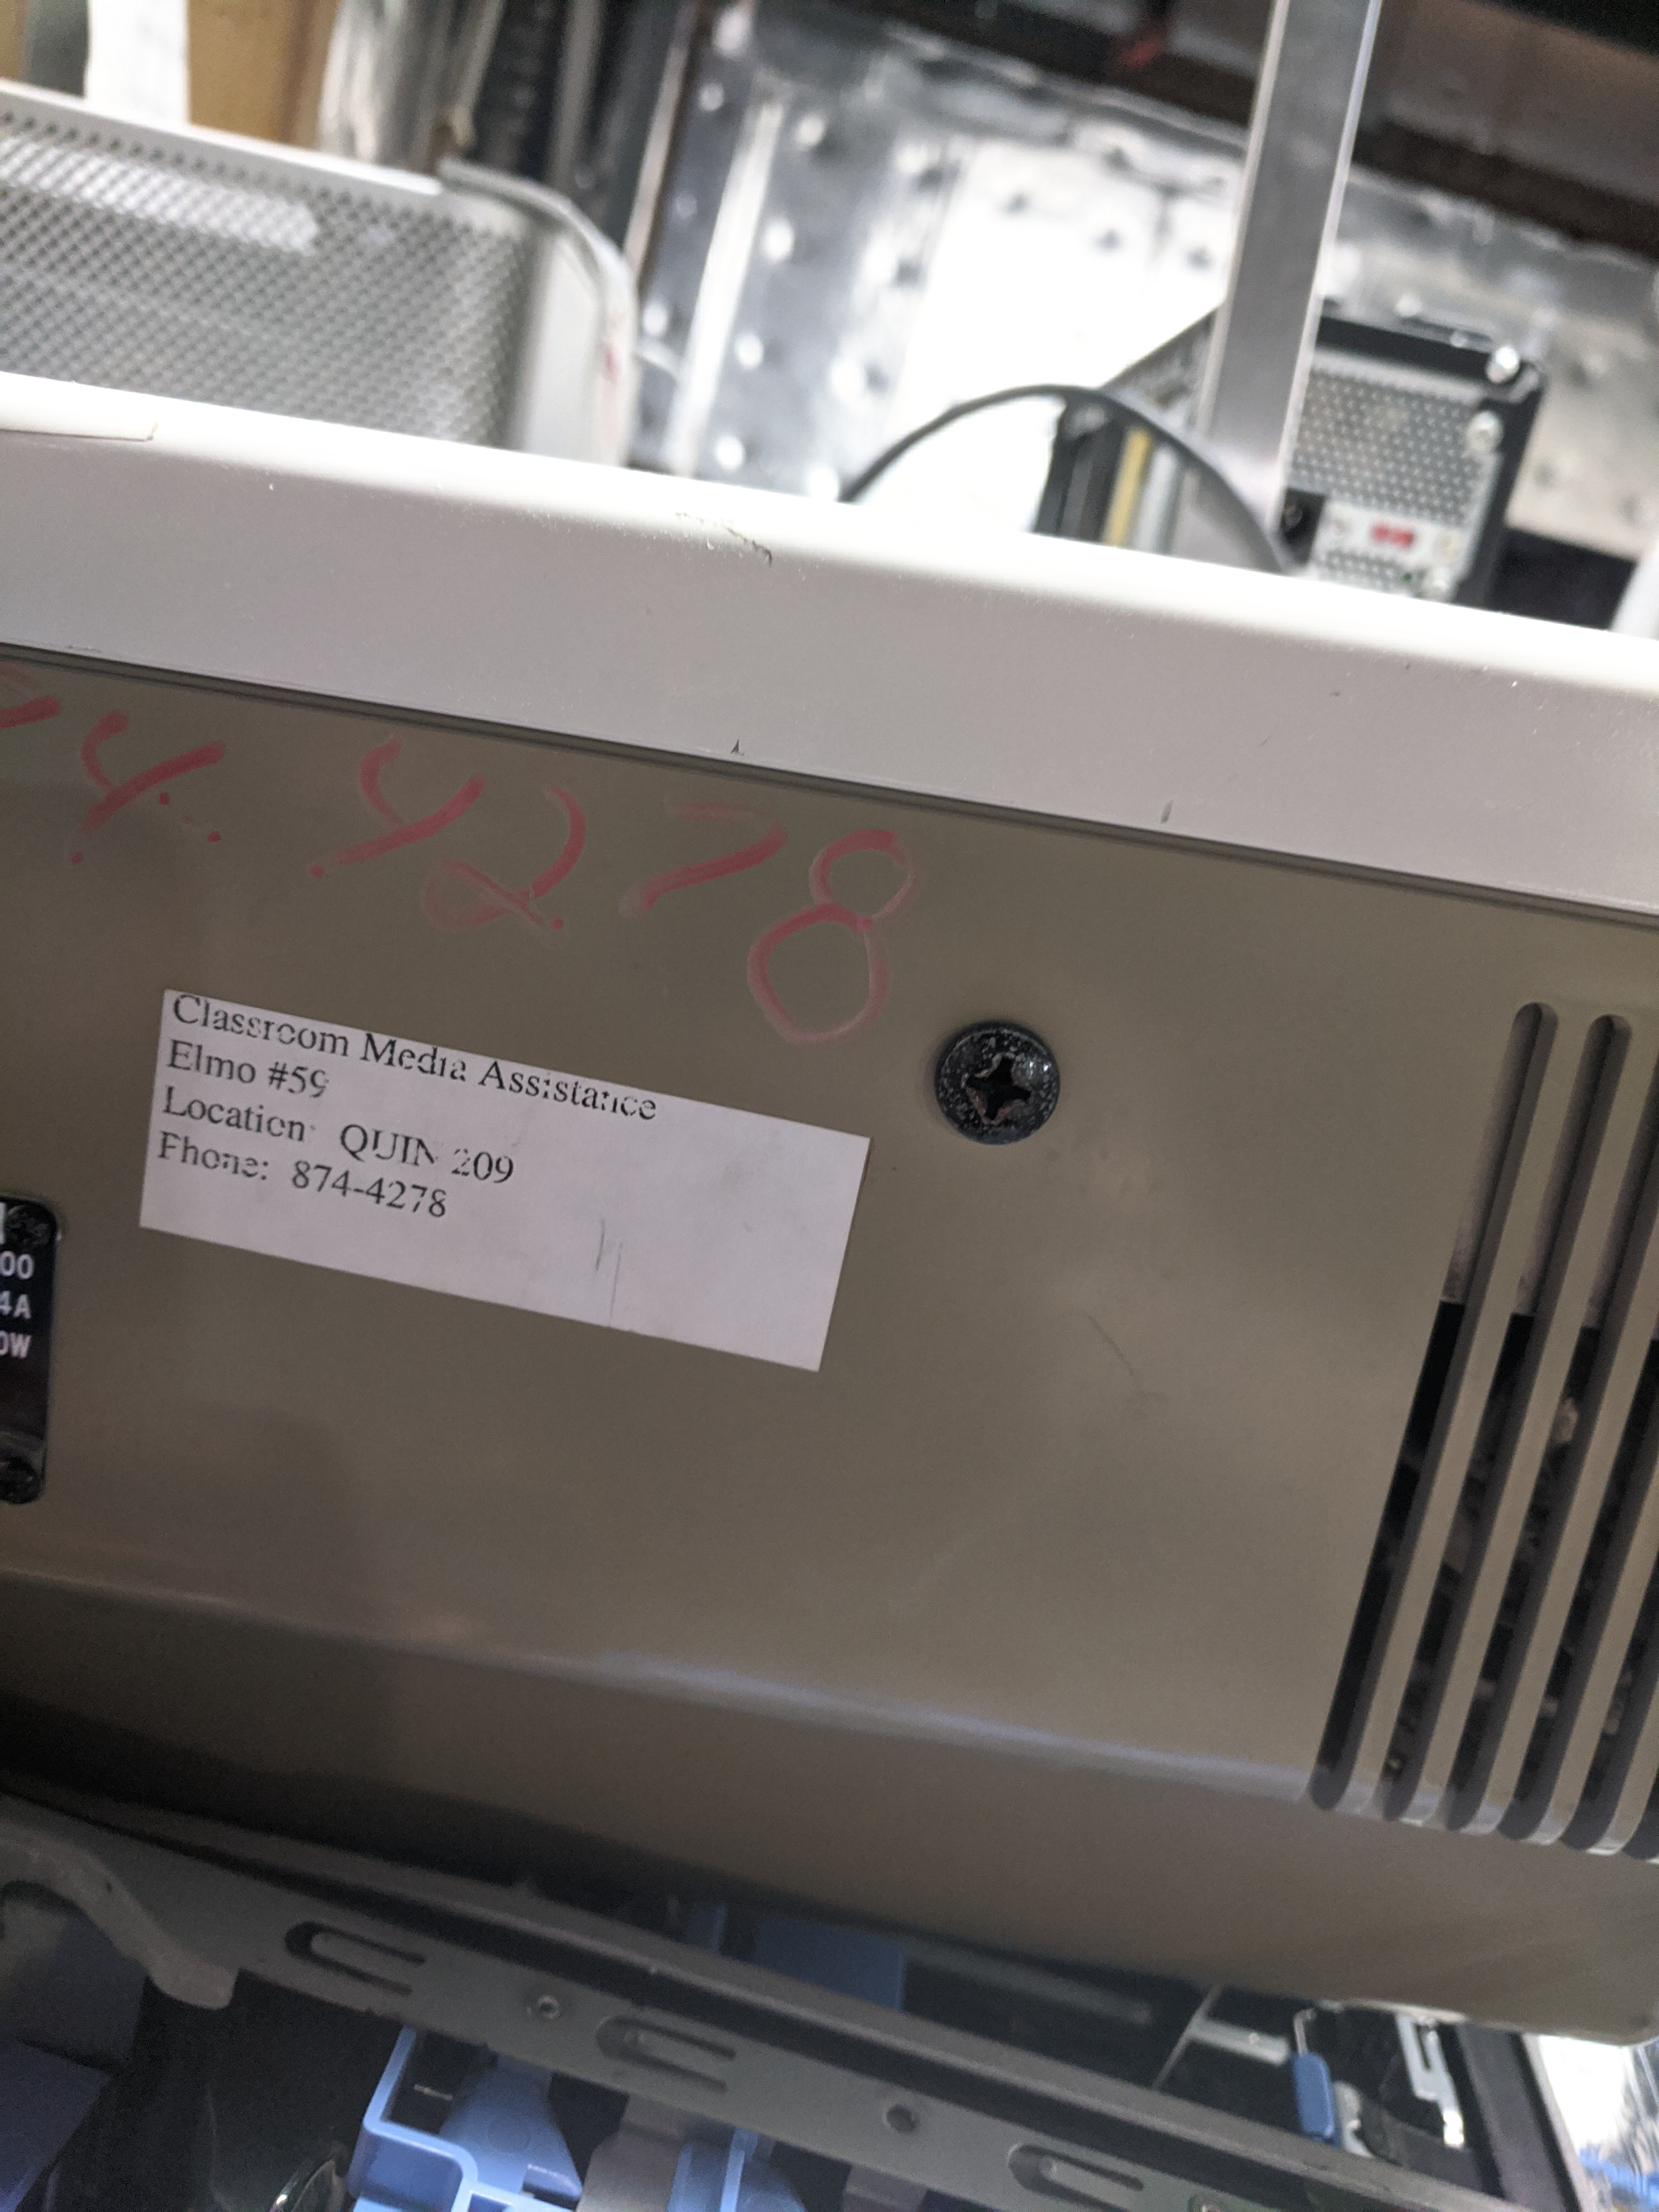cross_recessed_screw: (913, 1001, 1073, 1157)
